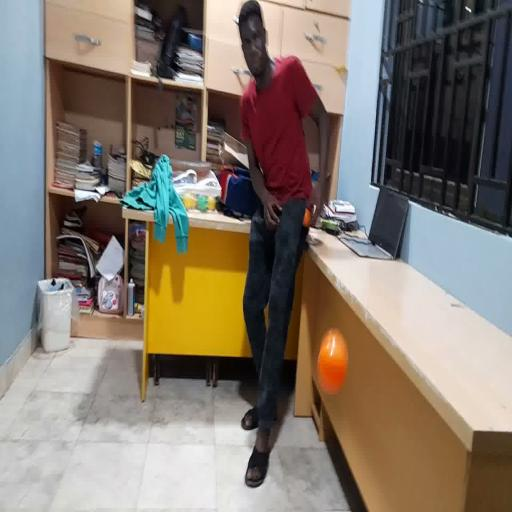plastic-ball: (315, 326, 351, 402)
